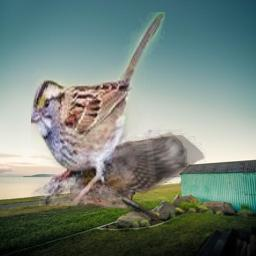Sparrow: (31, 12, 165, 206)
Woodpecker: (70, 127, 206, 219)
